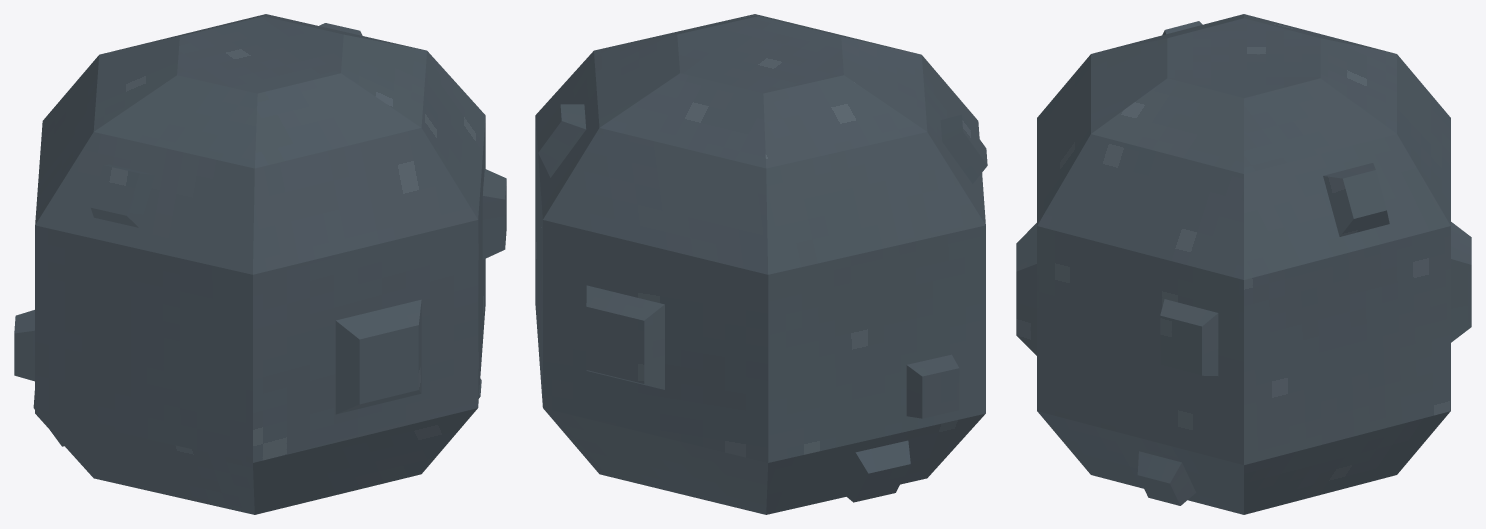
The model's file is item_artifactUnknown.glb.
The picture shows the model from 3 angles, left to right: view 1: azimuth 30°, elevation 25°; view 2: azimuth 150°, elevation 25°; view 3: azimuth 270°, elevation 25°; orthographic projection.
Visible parts, largest first — view 1: Donor_space-meteor_detailed_0; view 2: Donor_space-meteor_detailed_0; view 3: Donor_space-meteor_detailed_0.
Part boxes in pixels (<box>): Donor_space-meteor_detailed_0: <box>14,14,506,514</box>; Donor_space-meteor_detailed_0: <box>535,14,987,514</box>; Donor_space-meteor_detailed_0: <box>1016,14,1471,514</box>.
Size of the model in its own units: 0.27 by 0.24 by 0.24.
1 material, 1 textured.
